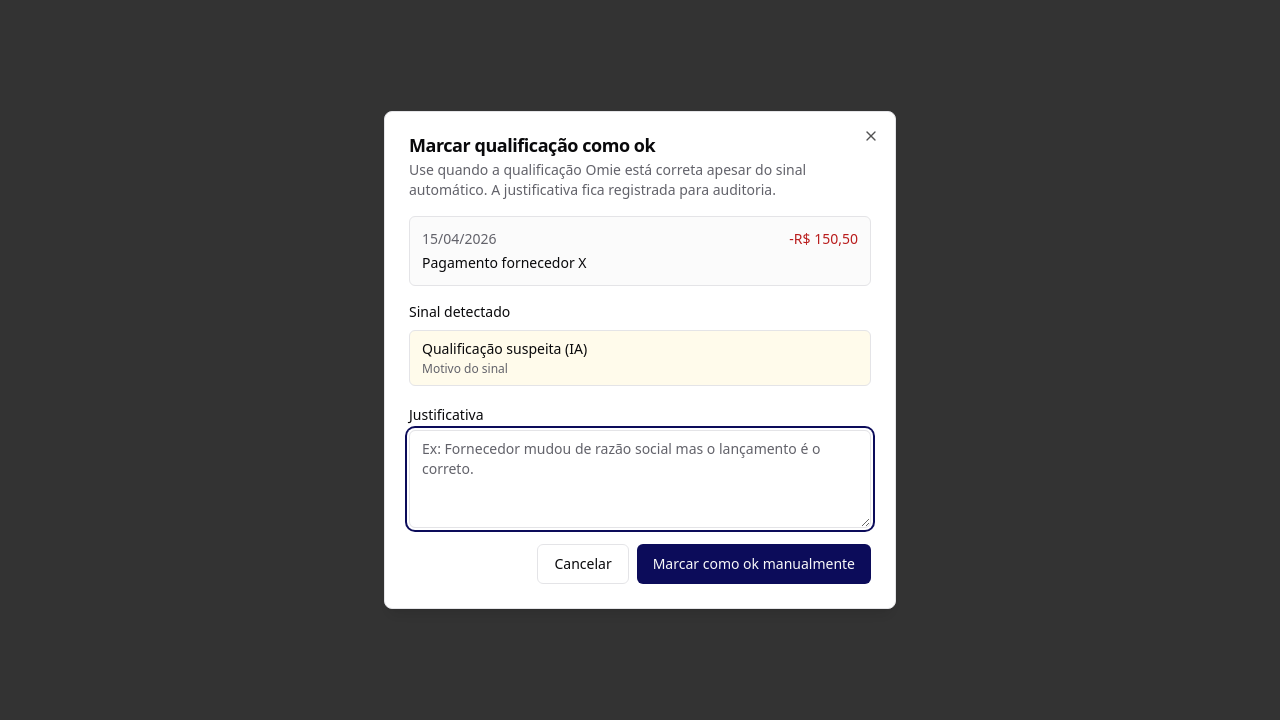
Test: QualificationOverrideDialog › mostra erro Zod quando a justificativa tem menos de 10 chars
Replace the text in the text box labelled "Justificativa" with "curto" at (640, 479), box 409,430 -> 871,528
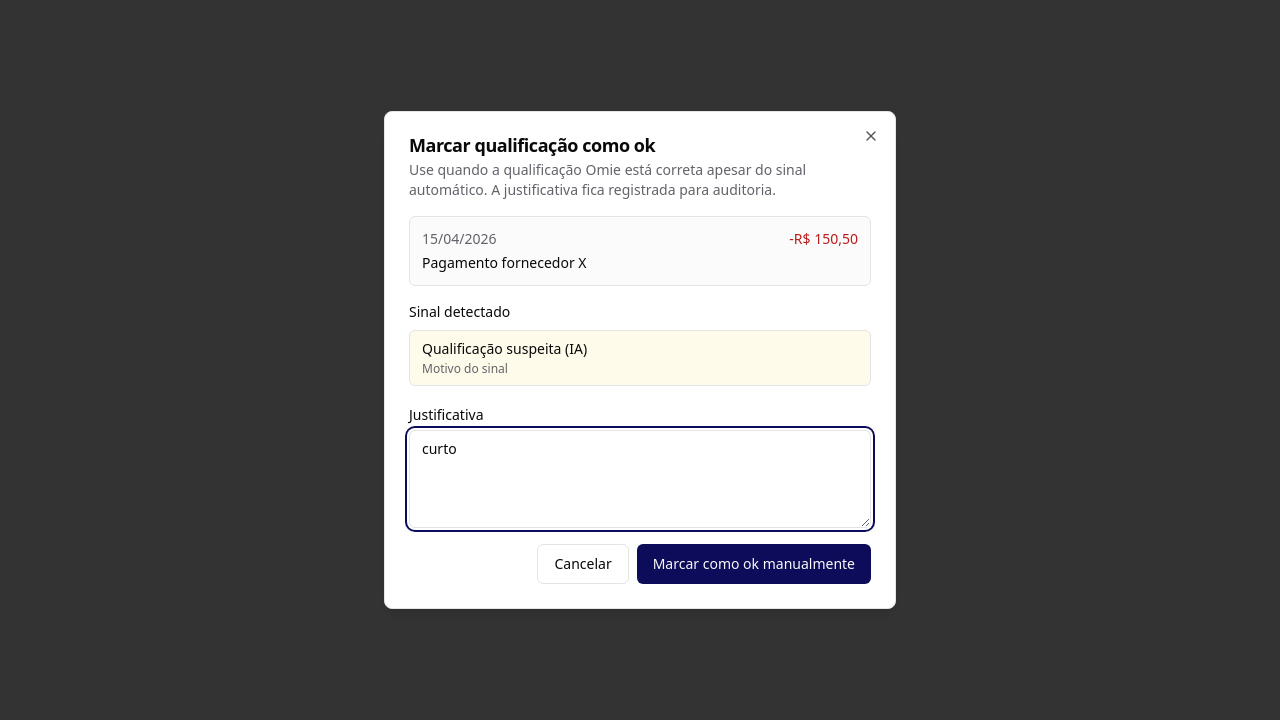
Click the button "Marcar como ok manualmente" at (754, 564), box 637,544 -> 871,584
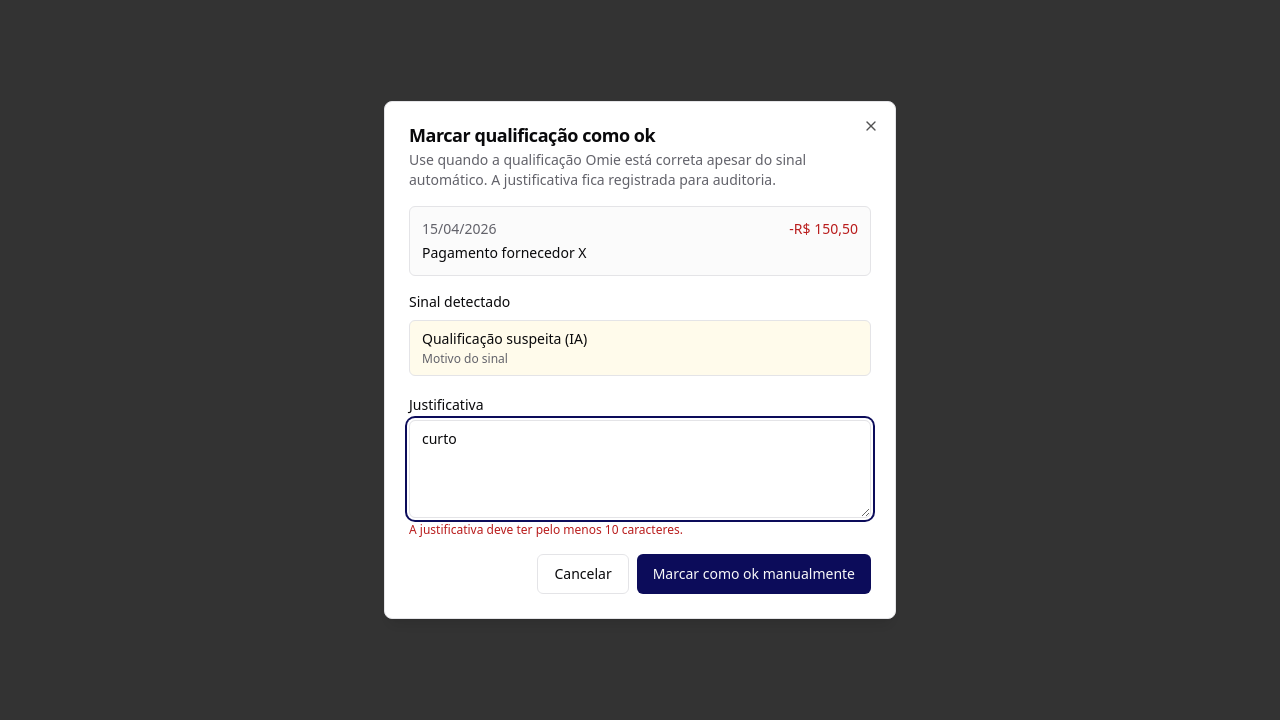
Result: the text "A justificativa deve ter pelo menos 10 caracteres." is shown at 409,521 -> 683,538
